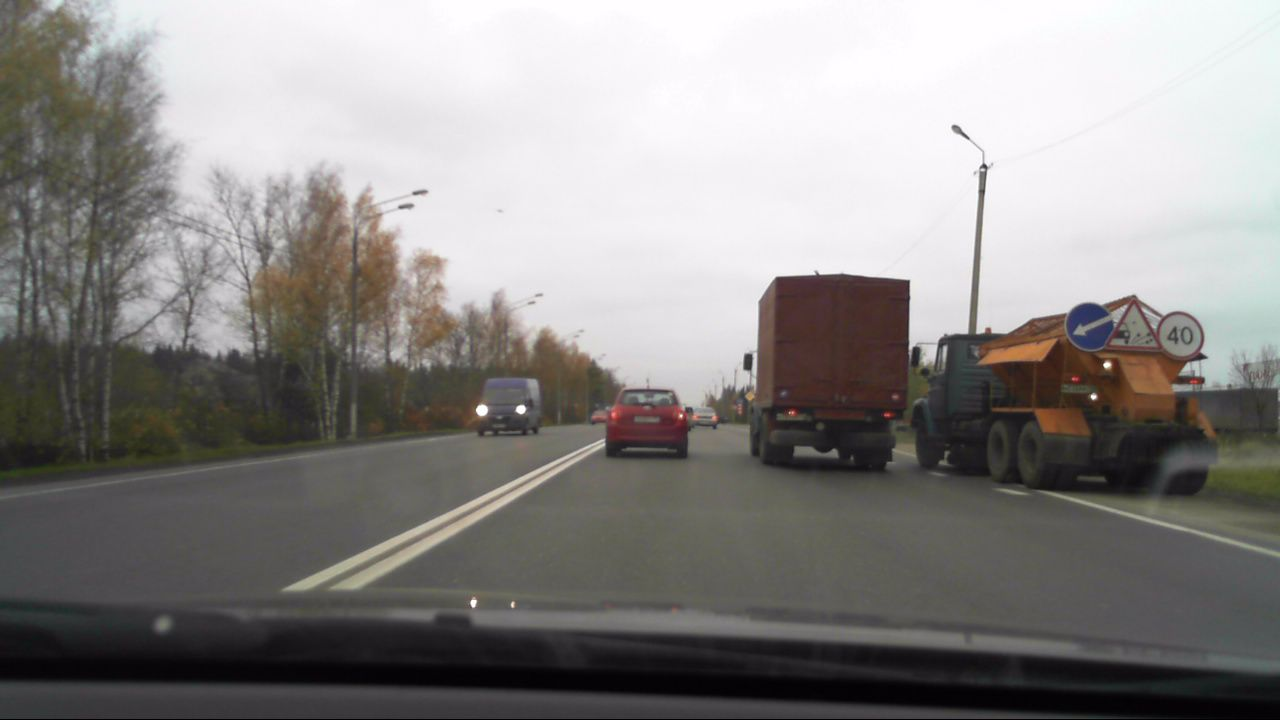speed_warning_40: (1158, 312, 1205, 361)
